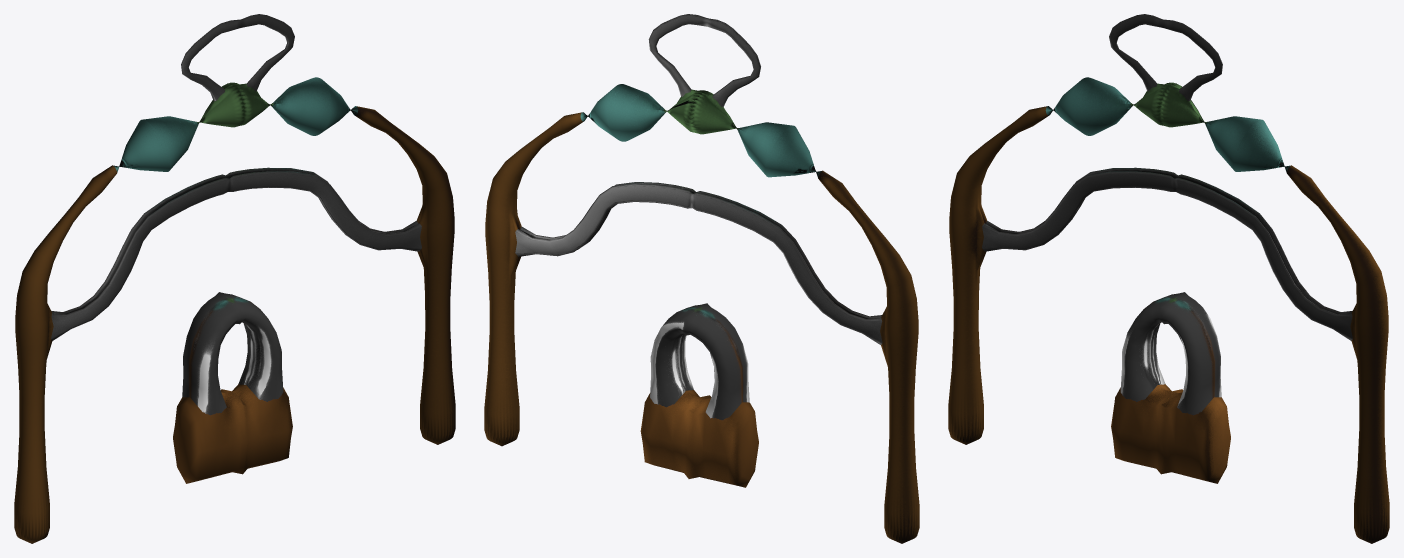
File: model_lock_gate.obj
The picture shows the model from 3 angles, left to right: view 1: azimuth 30°, elevation 25°; view 2: azimuth 150°, elevation 25°; view 3: azimuth 330°, elevation 25°; orthographic projection.
Visible parts, largest first — view 1: Cylinder; view 2: Cylinder; view 3: Cylinder.
Boxes of the visible parts, <box> form: Cylinder: <box>14,14,455,543</box>; Cylinder: <box>484,14,919,543</box>; Cylinder: <box>948,14,1389,543</box>.
Bounding box in the file's own units: 1.91 × 2.01 × 0.2465.
6 materials, 6 textured.
